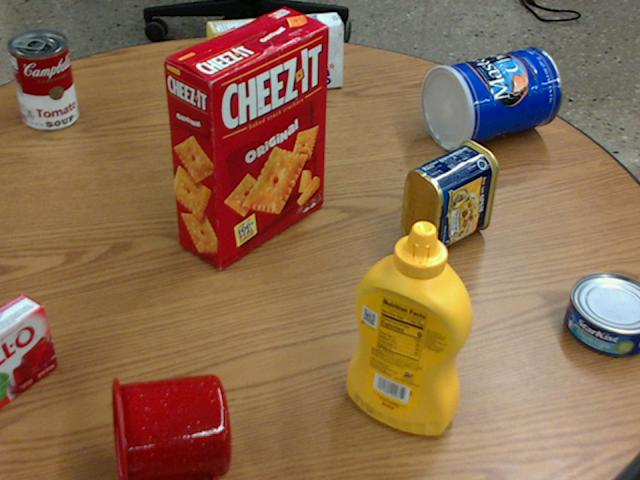cracker_box: (163, 7, 329, 268)
gelatin_box: (0, 293, 54, 403)
master_chef_can: (420, 46, 560, 149)
mug: (108, 373, 229, 479)
mustard_bottle: (346, 220, 471, 434)
potted_meat_can: (401, 139, 498, 254)
sugar_box: (207, 11, 345, 97)
tomato_soup_can: (8, 29, 77, 130)
tuna_fish_can: (564, 272, 639, 355)
